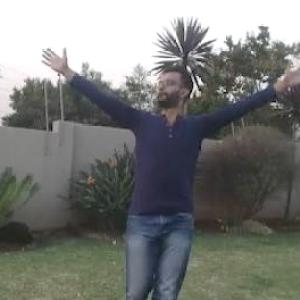takeoff: (45, 52, 299, 299)
